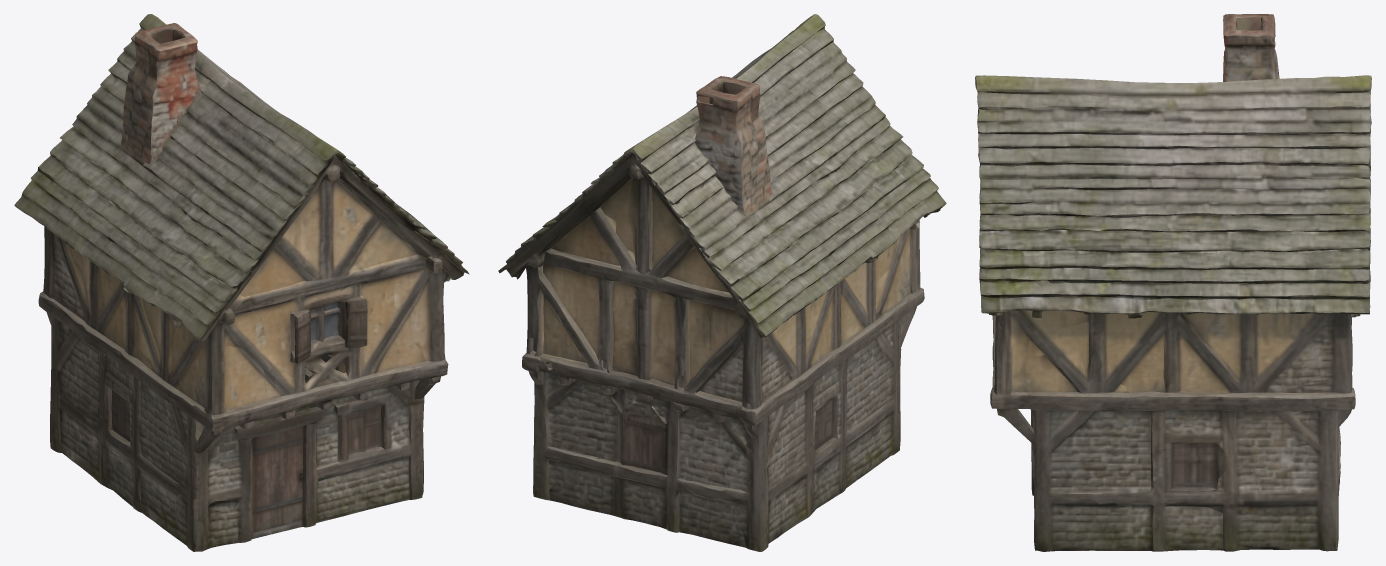
Rendered from timber_house.glb.
3 views of the same model, side by side, from view 1: azimuth 30°, elevation 25°; view 2: azimuth 150°, elevation 25°; view 3: azimuth 270°, elevation 25° (orthographic). The views are drawn at different scales.
Parts seen in each view (by area): view 1: geometry_0; view 2: geometry_0; view 3: geometry_0.
Part boxes in pixels (x1,y1,x2,y2): geometry_0: [14, 14, 469, 551]; geometry_0: [498, 14, 946, 551]; geometry_0: [975, 14, 1371, 551].
Bounding box in the file's own units: 4.75 × 7 × 5.6.
1 material, 1 textured.
